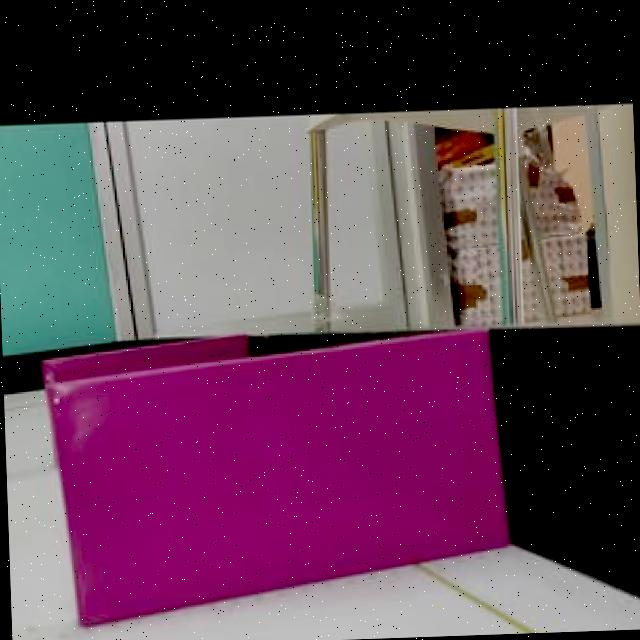xparking: (47, 325, 508, 625), (42, 335, 240, 378)
